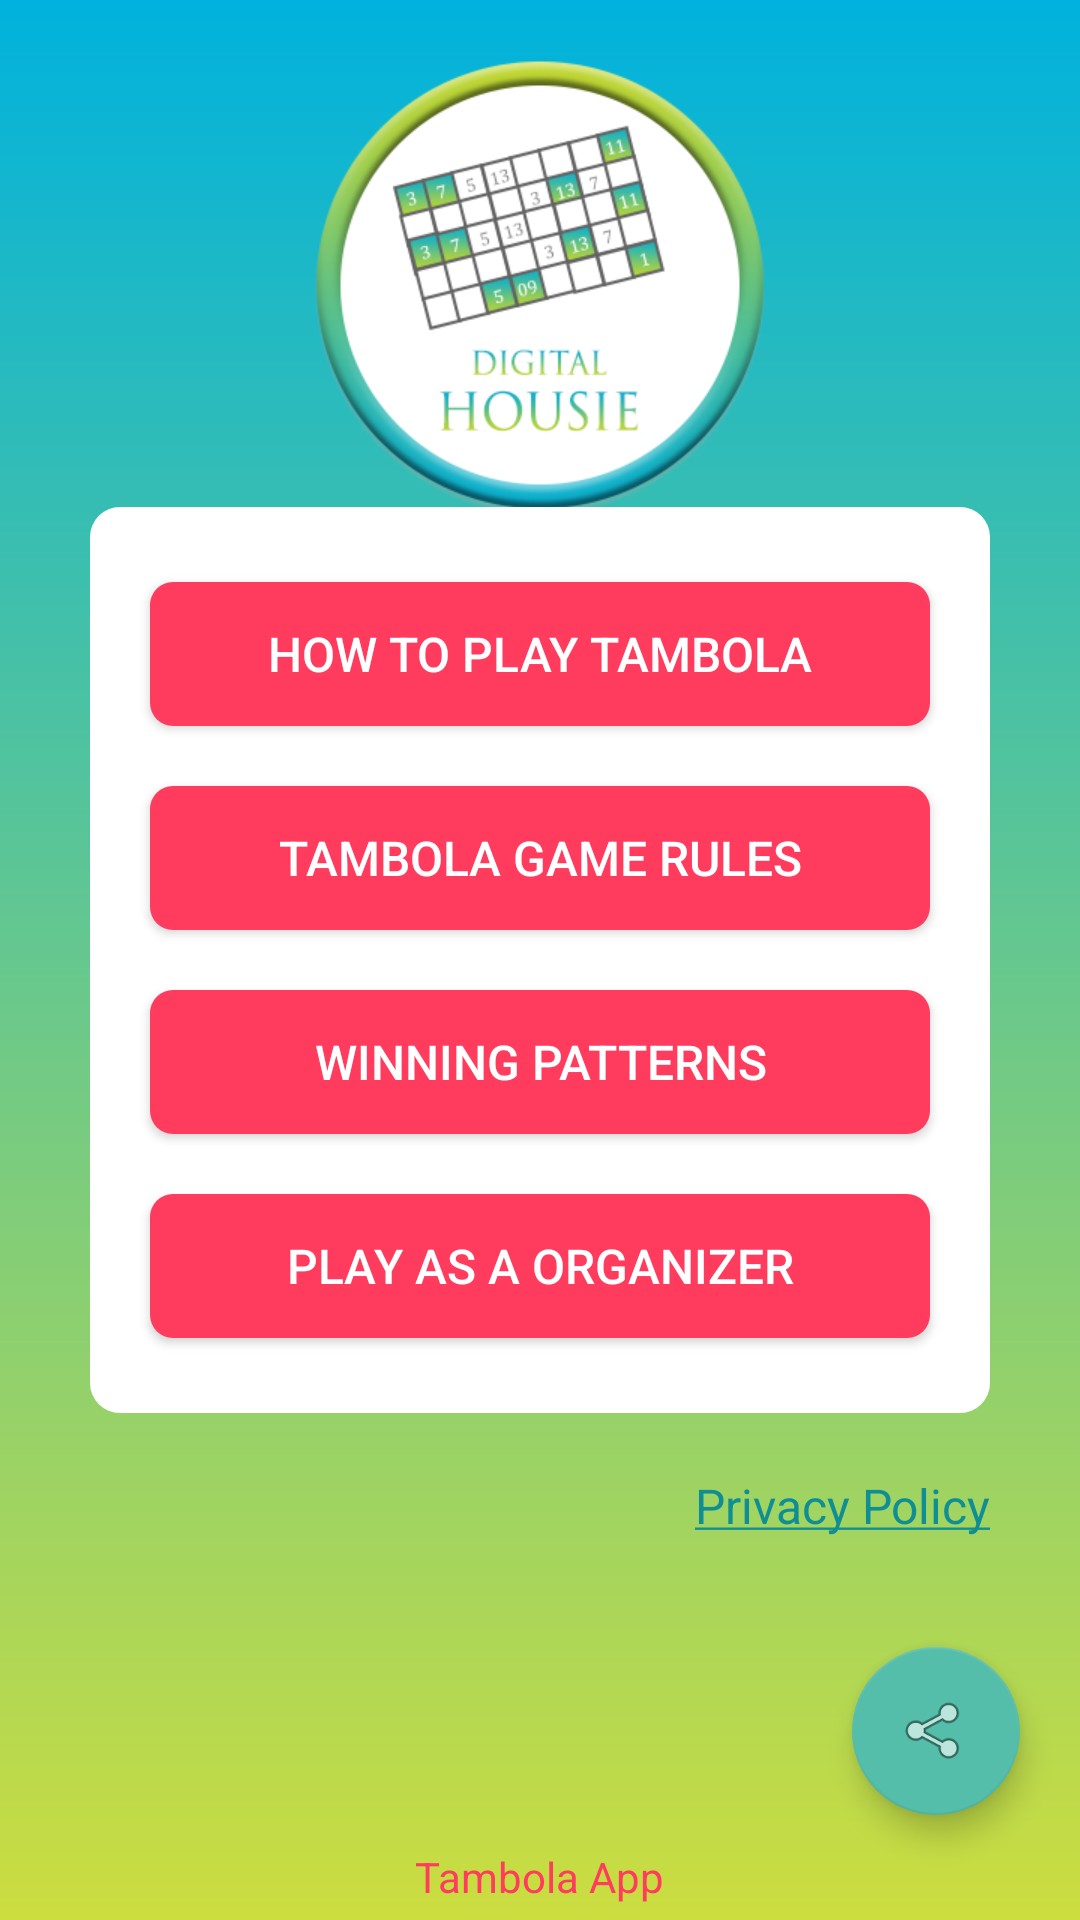

Named icons in this screenshot (1080 × 1920) and their centers, point (x, y):
share: point (936, 1731)
